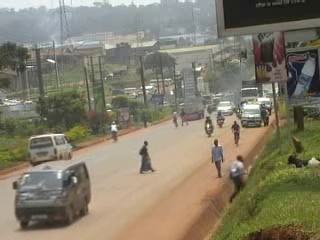Car: (215, 99, 233, 116)
Motorcycle: (202, 114, 213, 140), (213, 110, 224, 129), (233, 103, 242, 117)
